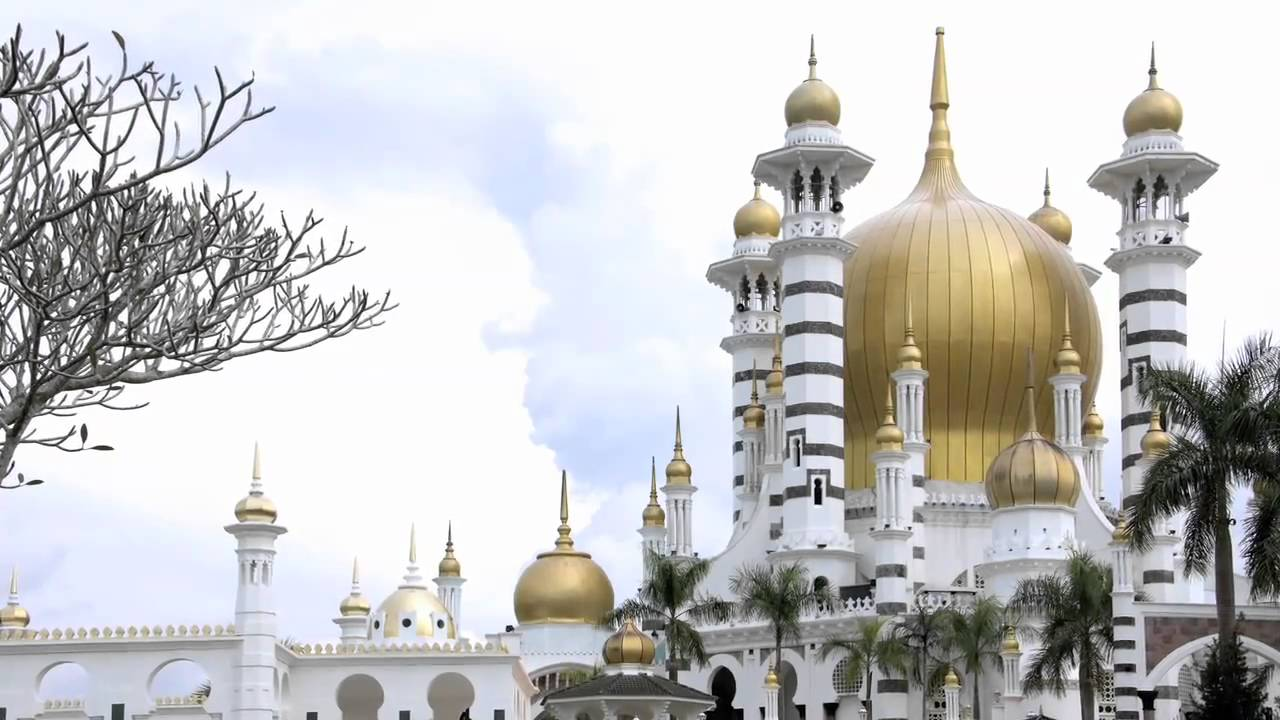Mosque: (708, 54, 1207, 604)
